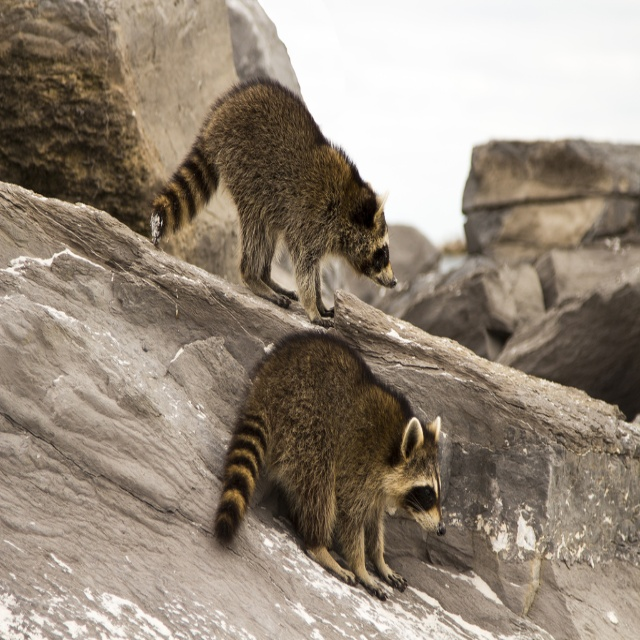Raccoon: (212, 330, 447, 600), (150, 78, 395, 324)
